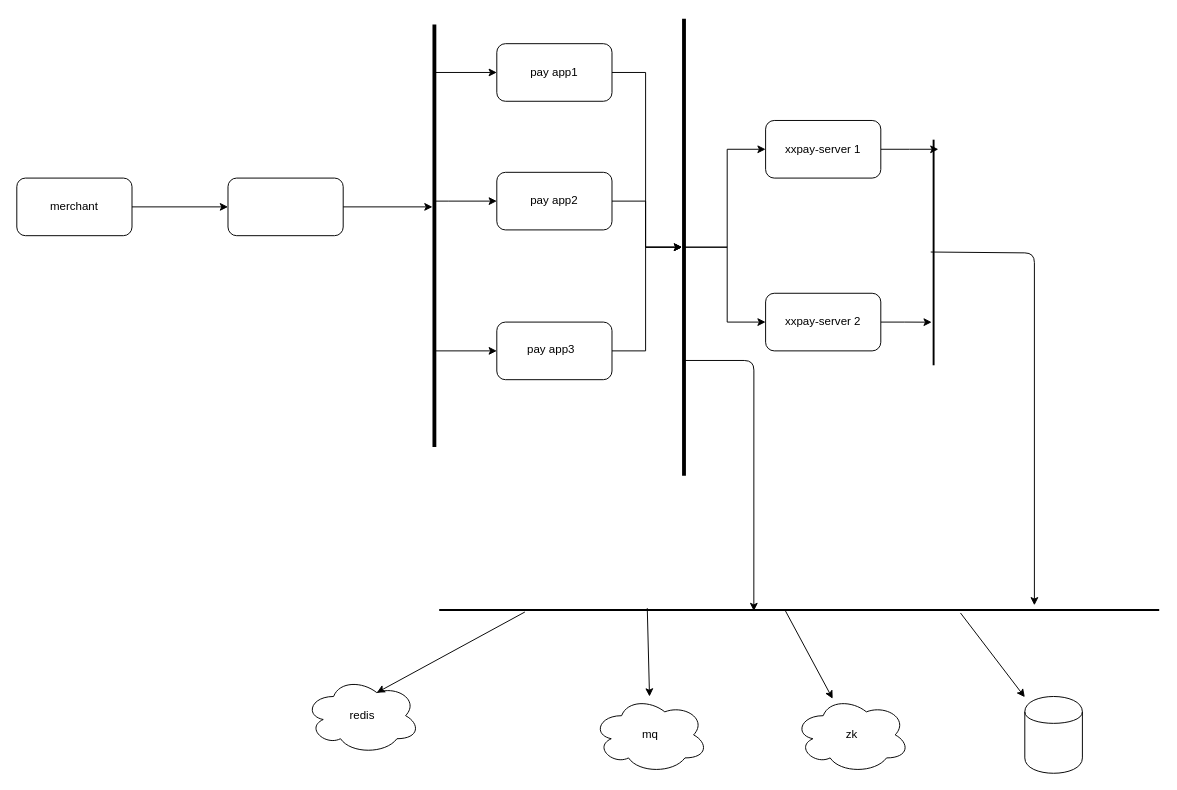
This 1177x790 diagram has some shape labels left out. The centre of each missing label's shape, as x and y in pixels:
"db" goes at point (1053, 734).
"nginx" goes at point (285, 206).
